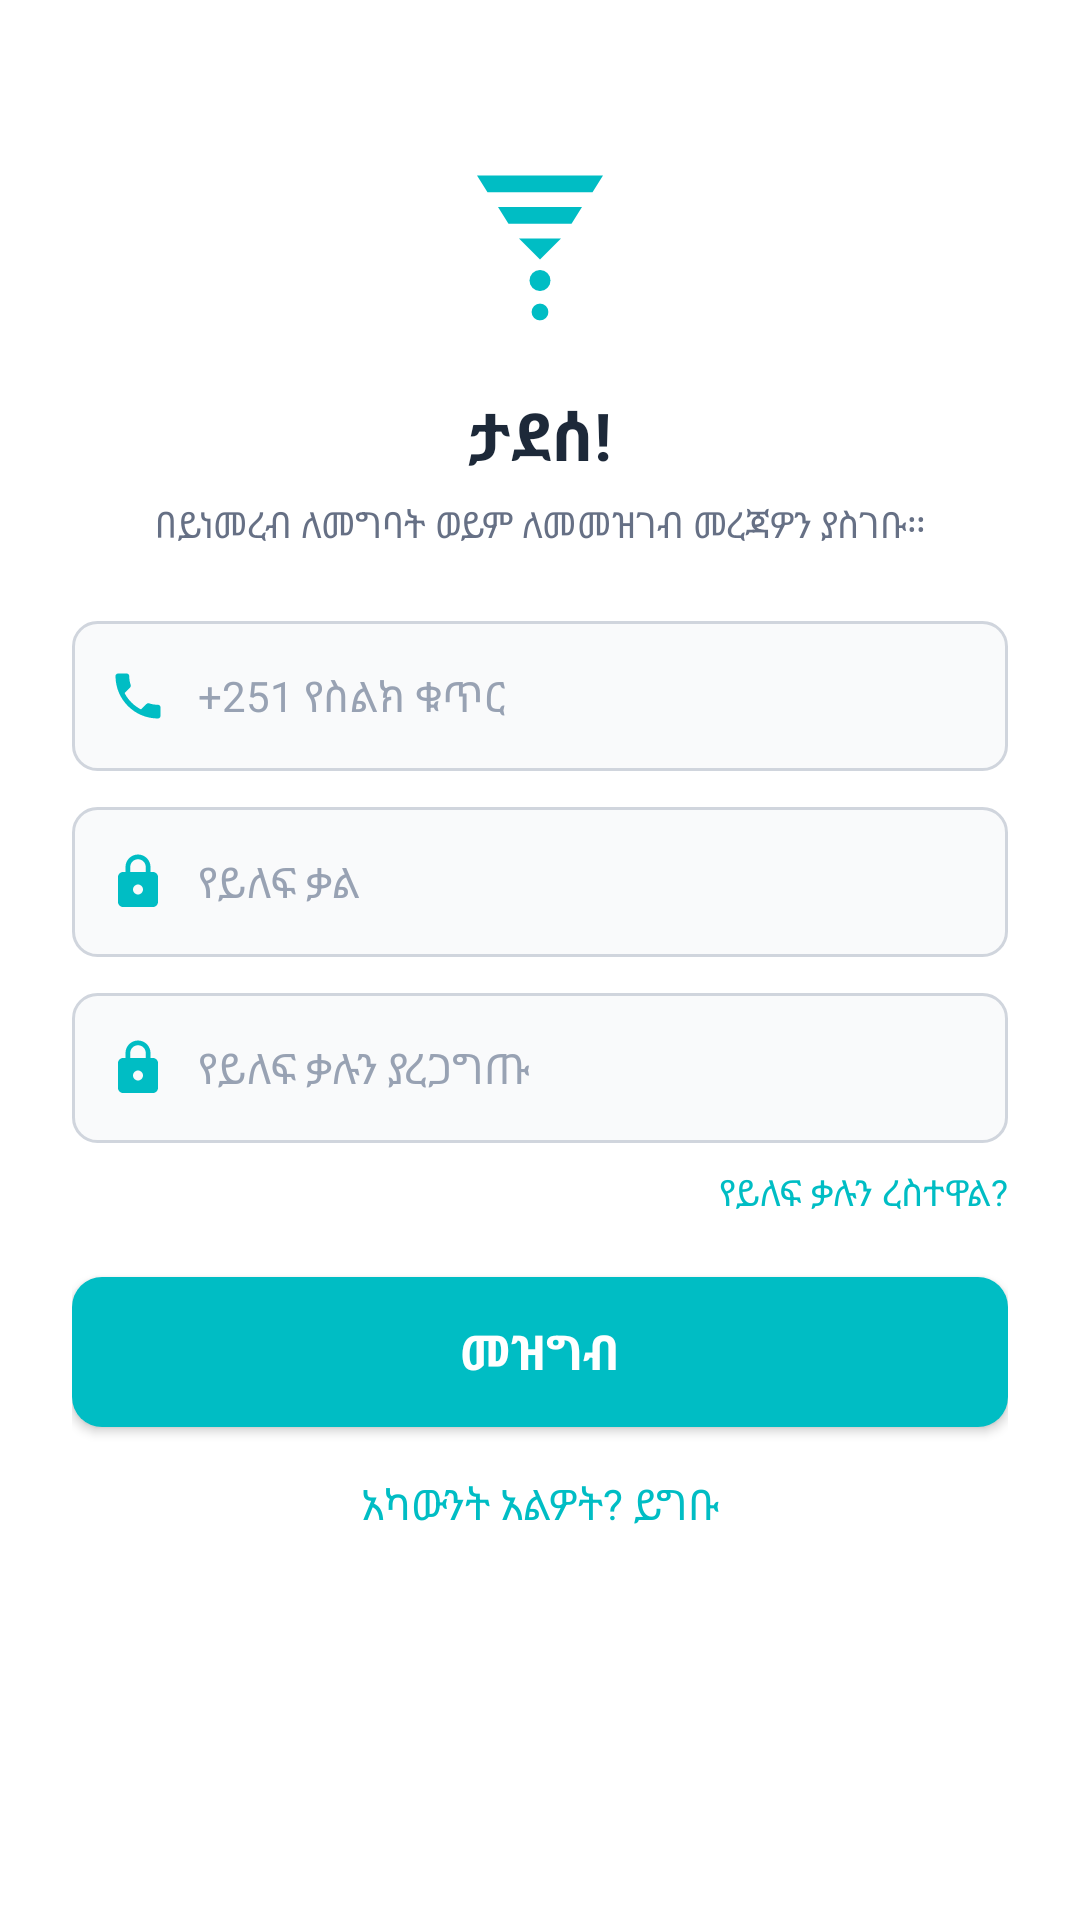

Icons on this 1080px x 1920px Android screen, each with the point to tap as (x=x, y=y):
Lock Icon: (x=138, y=880), (x=138, y=1066)
Phone Icon: (x=138, y=696)
